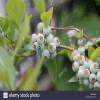Blueberry leaf: (5, 0, 25, 33), (45, 56, 58, 85), (40, 7, 55, 26), (88, 44, 100, 62)
